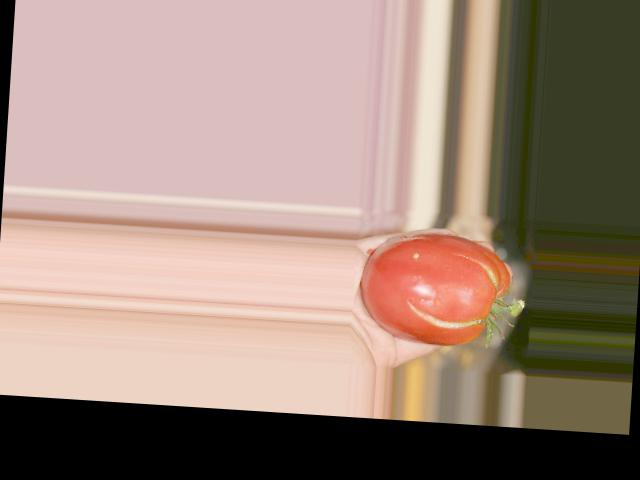tomato: (357, 228, 513, 347)
